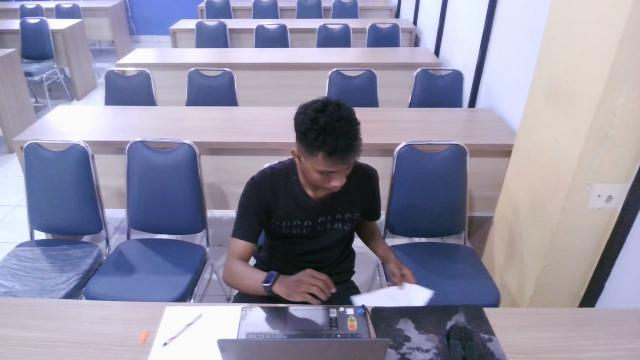Cheat_Sheet: (350, 281, 437, 313)
Head_Down_Extreme: (216, 94, 446, 334)
